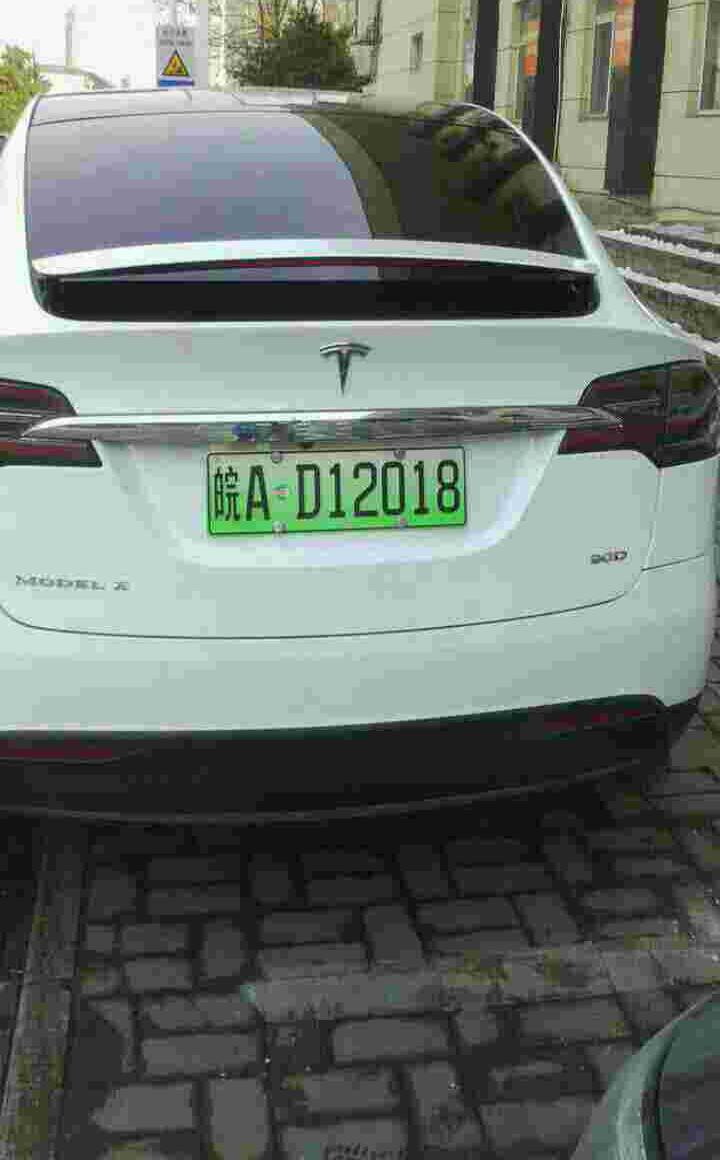car: (194, 442, 473, 532)
